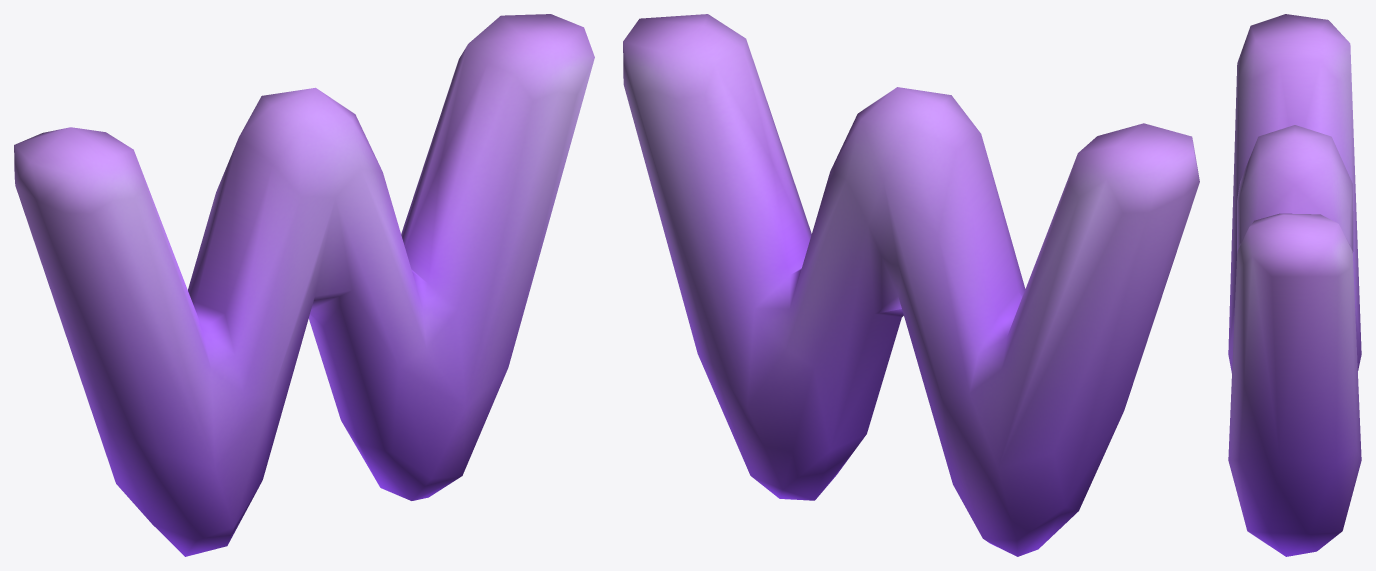
3 renders of one model, left to right at view 1: azimuth 30°, elevation 25°; view 2: azimuth 150°, elevation 25°; view 3: azimuth 270°, elevation 25°, orthographic. The views are drawn at different scales.
Visible parts, largest first — view 1: Processed_Mesh0_Geometry; view 2: Processed_Mesh0_Geometry; view 3: Processed_Mesh0_Geometry.
Boxes of the visible parts, <box> form: Processed_Mesh0_Geometry: <box>14,14,594,556</box>; Processed_Mesh0_Geometry: <box>623,14,1199,556</box>; Processed_Mesh0_Geometry: <box>1228,14,1361,556</box>.
Size of what is drawn, in the model's own units: 0.1084 by 0.0817 by 0.0259.
1 material, 1 textured.
